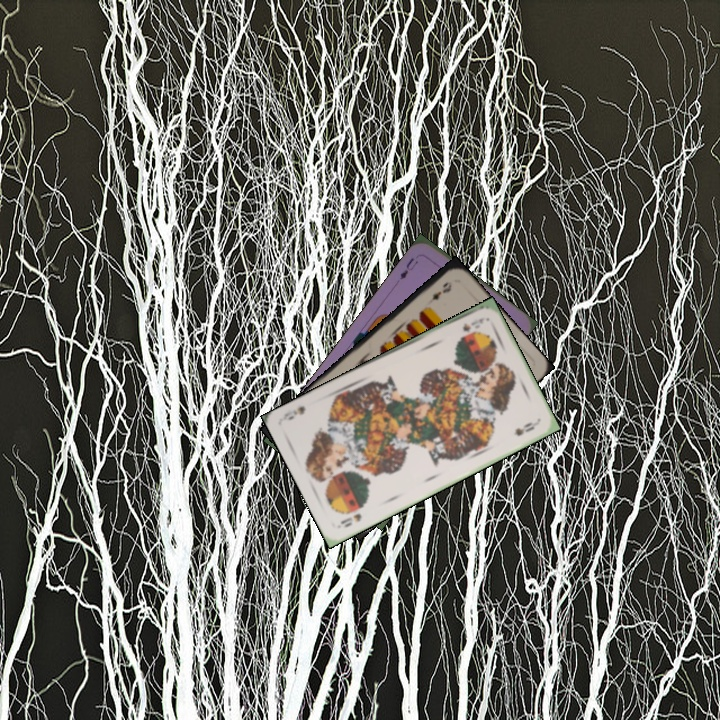E9: (428, 277, 455, 303)
EU: (396, 253, 421, 282)
SO: (335, 509, 364, 530), (458, 314, 486, 335)
